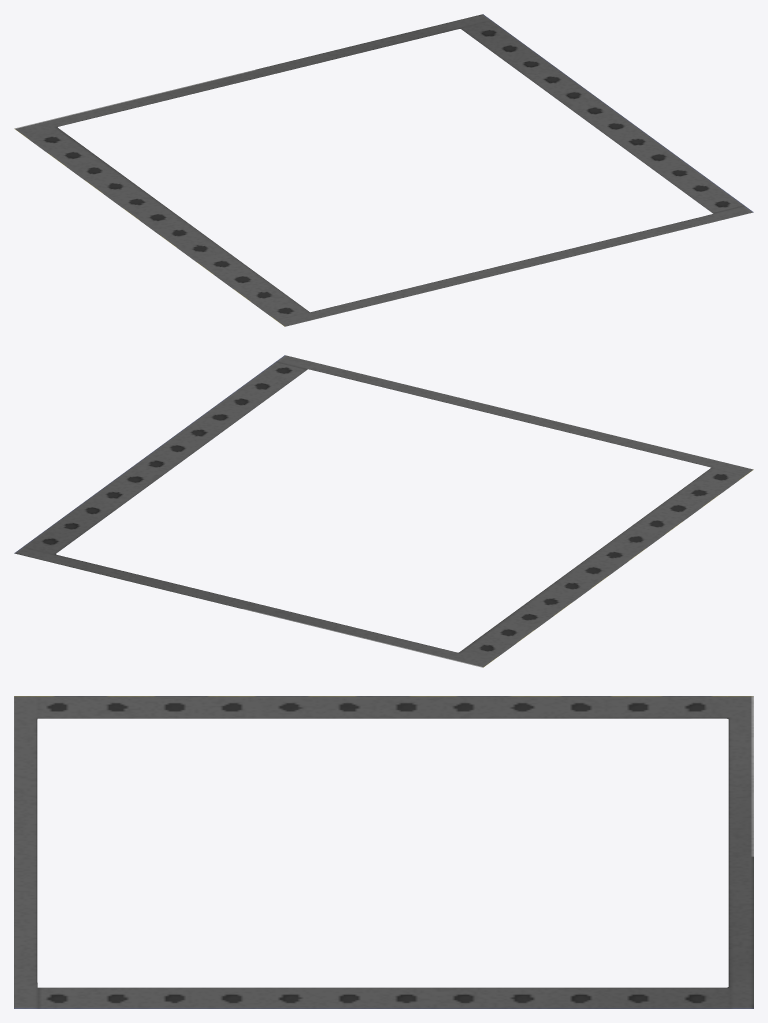
Rendered from geruest3.fbx.
The picture shows the model from 3 angles, top to bottom: view 1: azimuth 30°, elevation 25°; view 2: azimuth 150°, elevation 25°; view 3: azimuth 270°, elevation 25°; orthographic projection. The views are drawn at different scales.
Visible parts, largest first — view 1: geruest3; view 2: geruest3; view 3: geruest3.
Part boxes in pixels (<box>): geruest3: <box>14,14,753,326</box>; geruest3: <box>14,355,753,667</box>; geruest3: <box>14,696,753,1008</box>.
Bounding box in the file's own units: 200 × 3.26e-05 × 200.
